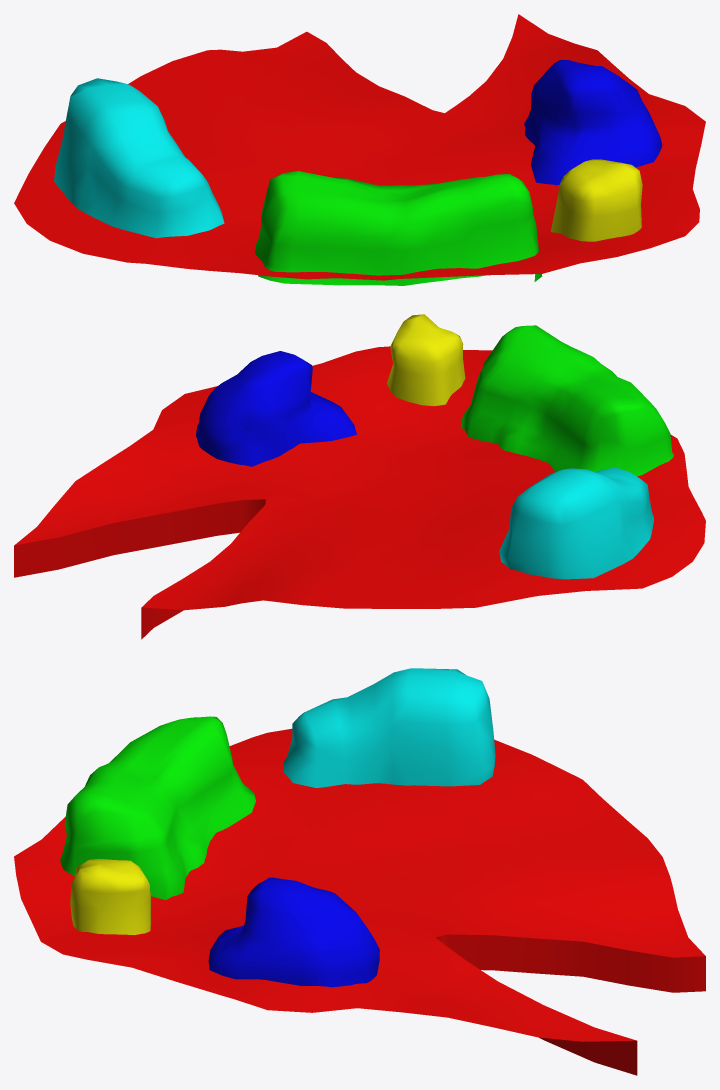
The model's file is terrain 5.fbx.
3 views of the same model, one above another, from view 1: azimuth 30°, elevation 25°; view 2: azimuth 150°, elevation 25°; view 3: azimuth 270°, elevation 25° (orthographic). The views are drawn at different scales.
Parts seen in each view (by area): view 1: polySurface11, polySurface12, polySurface8, polySurface9, polySurface10; view 2: polySurface11, polySurface12, polySurface8, polySurface9, polySurface10; view 3: polySurface11, polySurface12, polySurface8, polySurface9, polySurface10.
Part boxes in pixels (left/top/right/bottom): polySurface11: left=14, top=14, right=705, bottom=280; polySurface12: left=255, top=171, right=542, bottom=285; polySurface8: left=54, top=78, right=224, bottom=238; polySurface9: left=524, top=60, right=662, bottom=185; polySurface10: left=550, top=159, right=642, bottom=241; polySurface11: left=14, top=346, right=705, bottom=639; polySurface12: left=460, top=325, right=673, bottom=476; polySurface8: left=499, top=467, right=653, bottom=579; polySurface9: left=196, top=351, right=356, bottom=466; polySurface10: left=386, top=314, right=465, bottom=406; polySurface11: left=14, top=728, right=705, bottom=1075; polySurface12: left=60, top=716, right=255, bottom=899; polySurface8: left=283, top=668, right=495, bottom=787; polySurface9: left=208, top=877, right=379, bottom=987; polySurface10: left=70, top=858, right=150, bottom=935.
Size of the model in its own units: 726 by 177 by 718.
